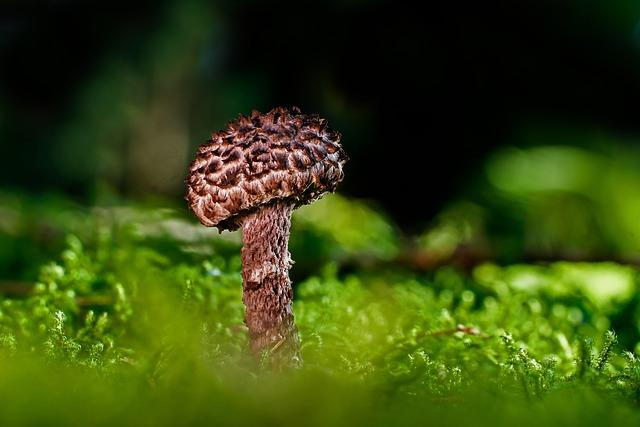Non_Gorille: (30, 0, 630, 427)
